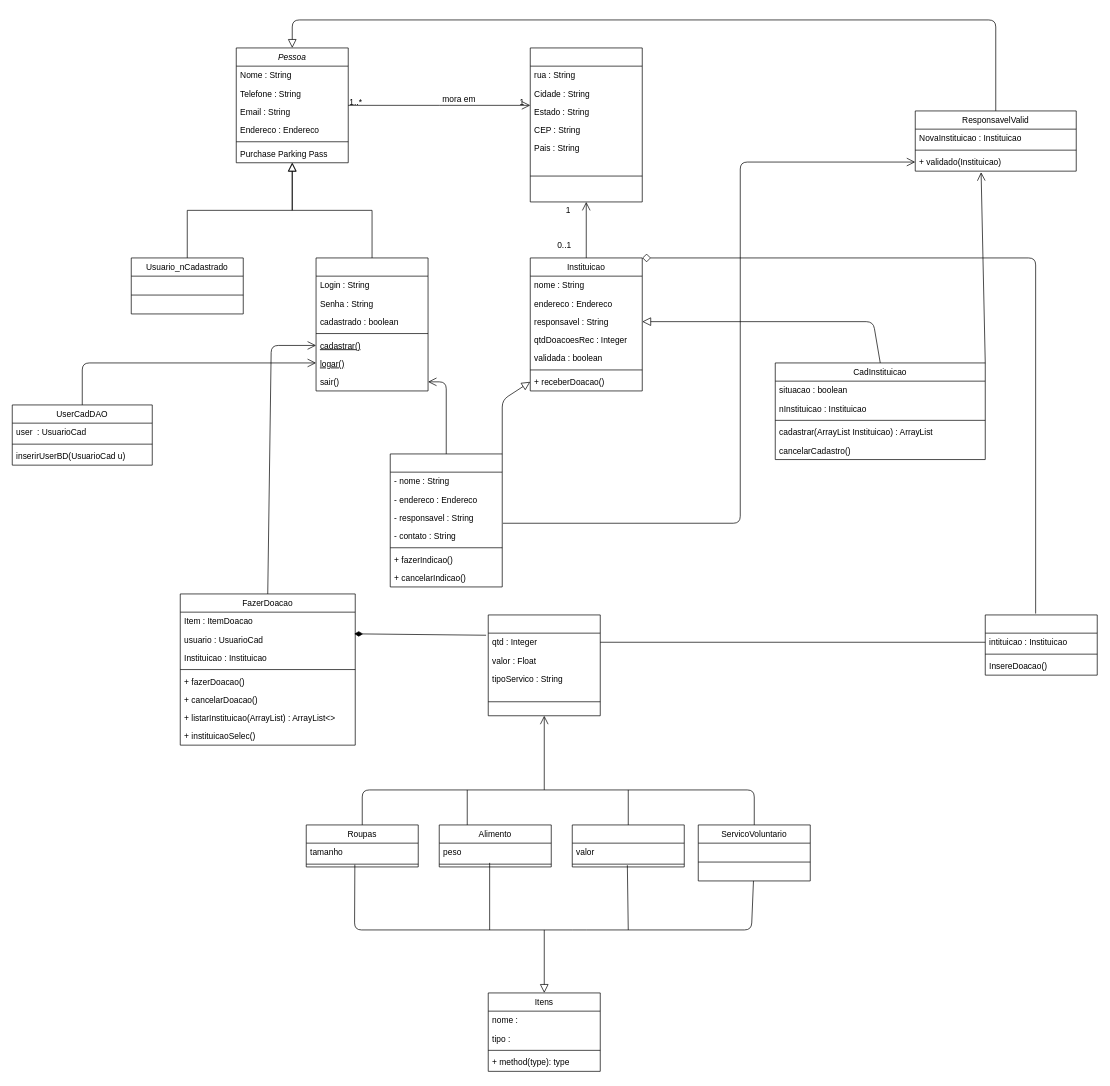
The diagram is 1110 pixels wide and 1086 high, and some of its shapes have lost their labels. Each missing label, with the box of its shape:
Dinheiro: (572, 824, 684, 867)
Endereco: (530, 47, 642, 202)
Indicar: (390, 453, 502, 587)
ItemDoacao: (488, 614, 600, 716)
RecebeDoacao: (985, 614, 1097, 675)
UsuarioCad: (315, 257, 428, 391)
